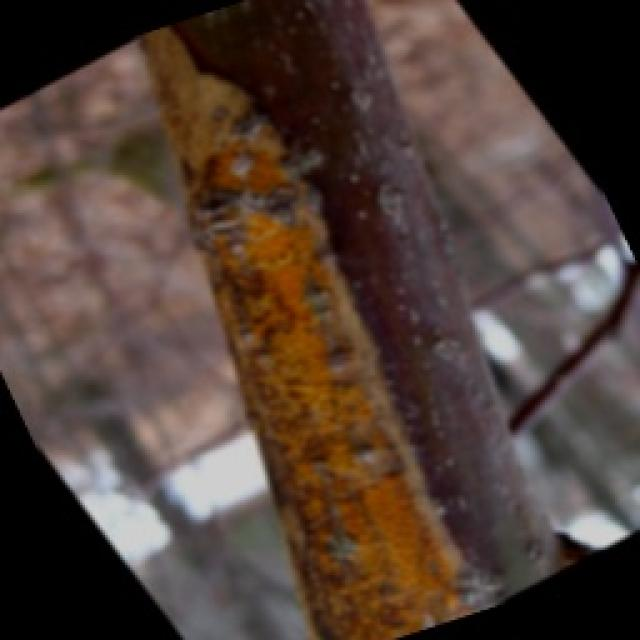Golden_canker: (97, 13, 528, 640)
